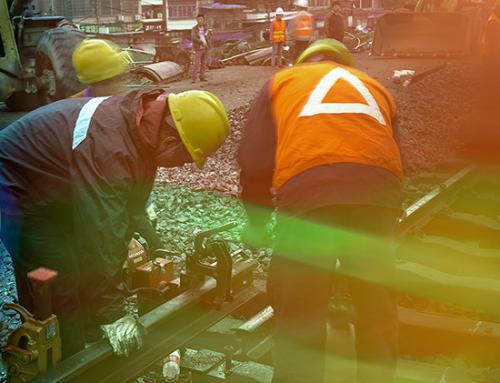helmet: (146, 82, 240, 171), (66, 37, 138, 92), (297, 37, 351, 75), (273, 4, 286, 24)
